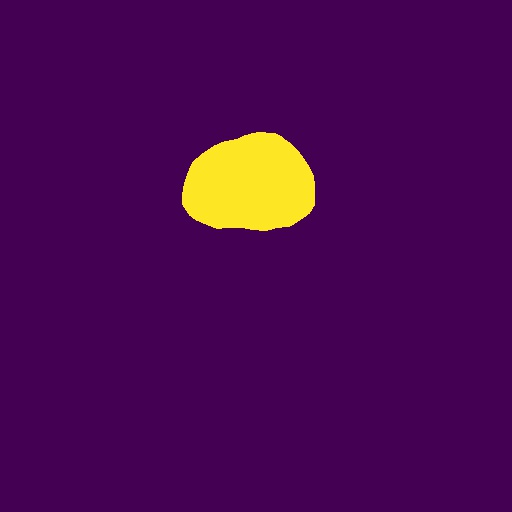Menigiomia_tumour: (182, 132, 315, 231)
